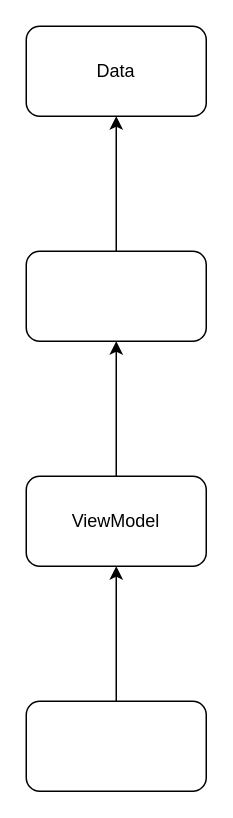
This 233x818 diagram has some shape labels left out. Here are the shapes that lost their labels. From the top down, the centre of each, then its label:
(x=115, y=295): Repository
(x=115, y=745): View (Jetpack Compose)
